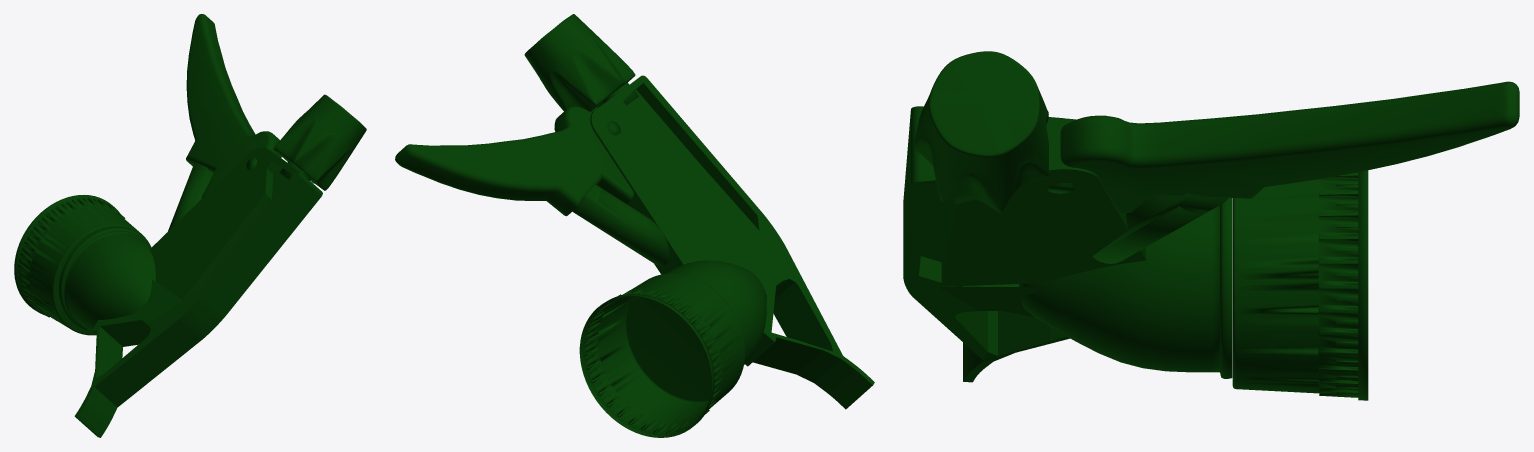
3 views of the same model, side by side, from view 1: azimuth 30°, elevation 25°; view 2: azimuth 150°, elevation 25°; view 3: azimuth 270°, elevation 25° (orthographic). The views are drawn at different scales.
Bounding box in the file's own units: 0.2976 × 0.2745 × 0.2738.
